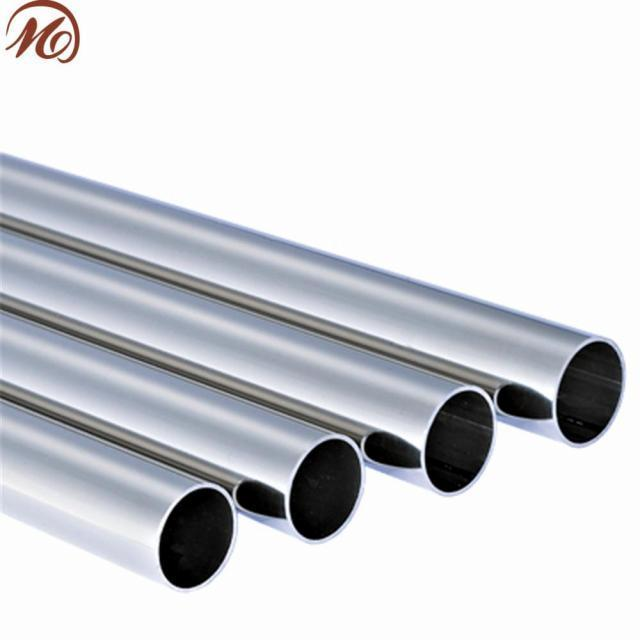pipe: (153, 479, 242, 593), (285, 431, 368, 545), (551, 335, 629, 450), (422, 383, 500, 498)
